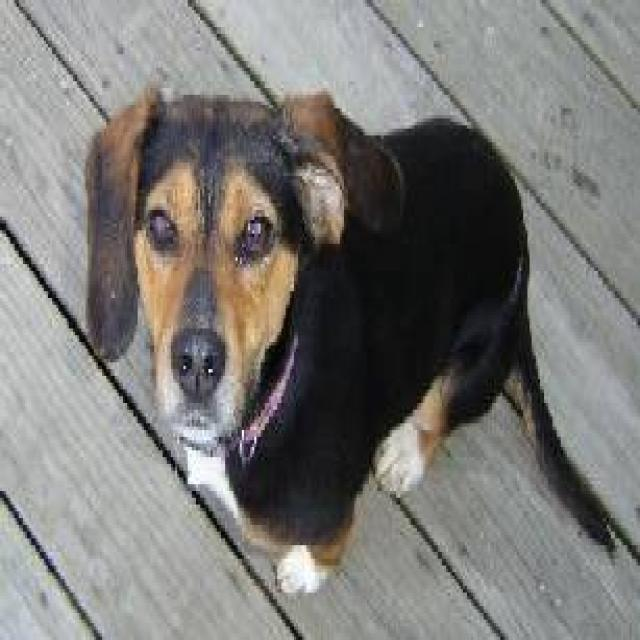dog: (84, 81, 622, 596)
